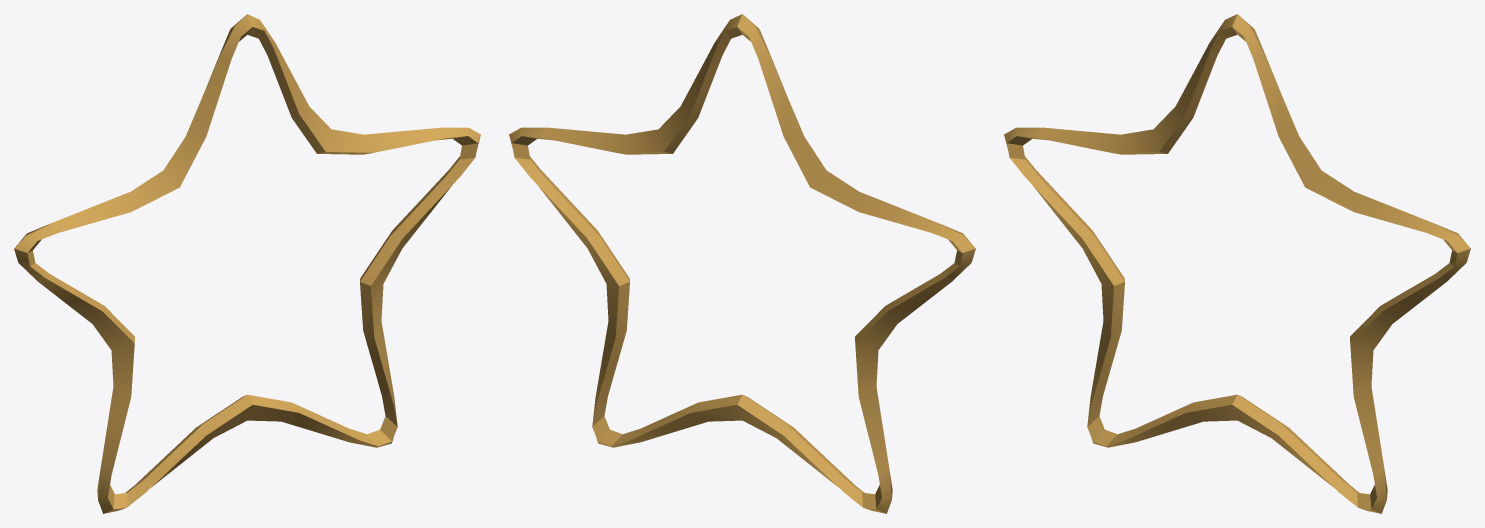
Rendered from quaternius-platformer-game-star-outline.glb.
The picture shows the model from 3 angles, left to right: view 1: azimuth 30°, elevation 25°; view 2: azimuth 150°, elevation 25°; view 3: azimuth 330°, elevation 25°; orthographic projection.
Visible parts, largest first — view 1: Star_Outline; view 2: Star_Outline; view 3: Star_Outline.
Boxes of the visible parts, box(x1,y1,x2,y2) form: Star_Outline: box(14, 14, 480, 513); Star_Outline: box(509, 14, 975, 513); Star_Outline: box(1004, 14, 1470, 513).
Bounding box in the file's own units: 1.51 × 1.44 × 0.0594.
